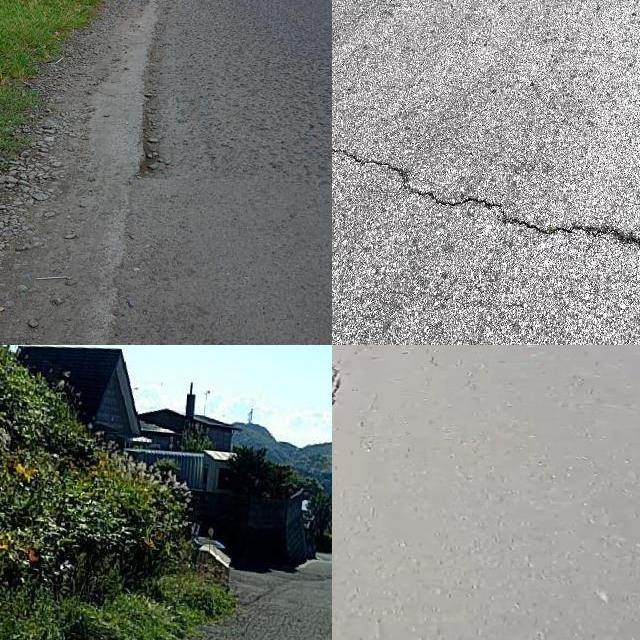Melintang: (332, 137, 640, 260)
Pinggir: (0, 0, 160, 345)
